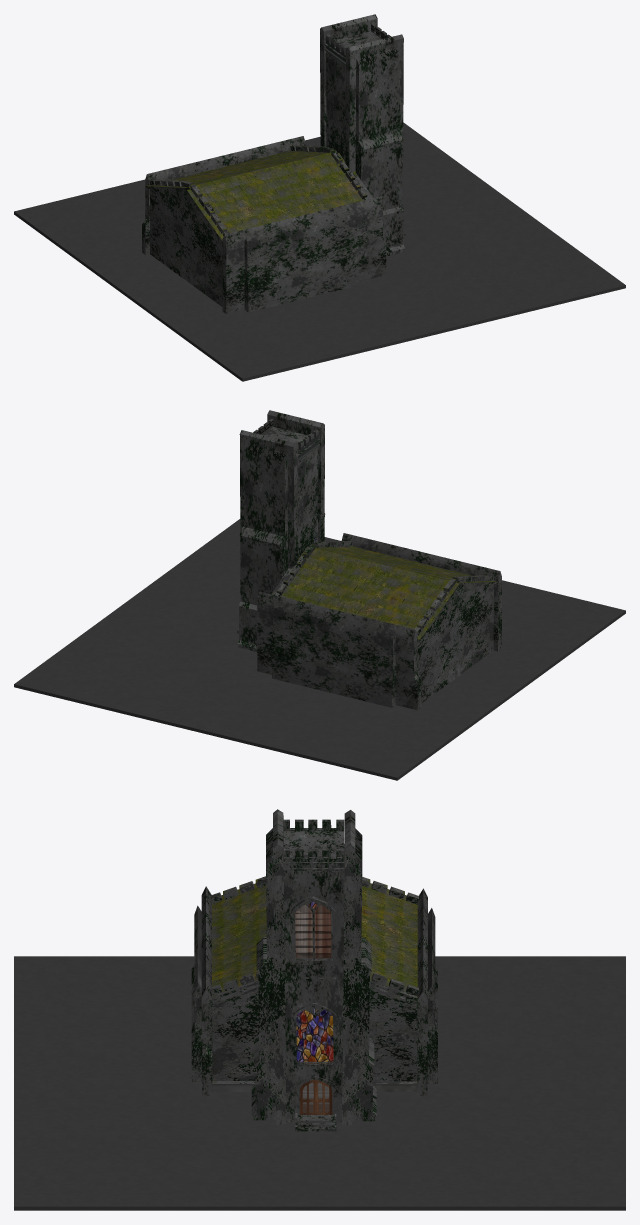
The model's file is Church.fbx.
3 renders of one model, top to bottom at view 1: azimuth 30°, elevation 25°; view 2: azimuth 150°, elevation 25°; view 3: azimuth 270°, elevation 25°, orthographic. The views are drawn at different scales.
Parts seen in each view (by area): view 1: g; view 2: g; view 3: g.
Boxes of the visible parts, left/top/right/bottom form: g: left=14, top=14, right=625, bottom=381; g: left=14, top=410, right=625, bottom=780; g: left=14, top=809, right=625, bottom=1210.
Size of the model in its own units: 194 by 103 by 200.
